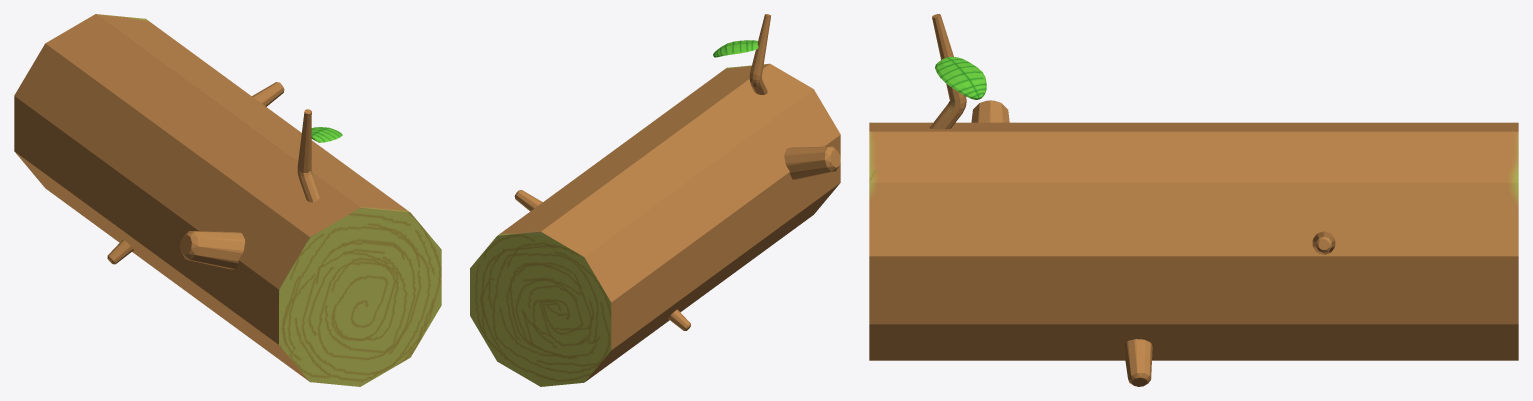
Rendered from touboku.fbx.
3 views of the same model, side by side, from view 1: azimuth 30°, elevation 25°; view 2: azimuth 150°, elevation 25°; view 3: azimuth 270°, elevation 25° (orthographic). The views are drawn at different scales.
Parts seen in each view (by area): view 1: wood; view 2: wood; view 3: wood.
Boxes of the visible parts, <box> form: wood: <box>14,14,441,386</box>; wood: <box>470,14,840,386</box>; wood: <box>869,14,1518,386</box>.
Bounding box in the file's own units: 413 × 439 × 803.
1 material, 1 textured.
